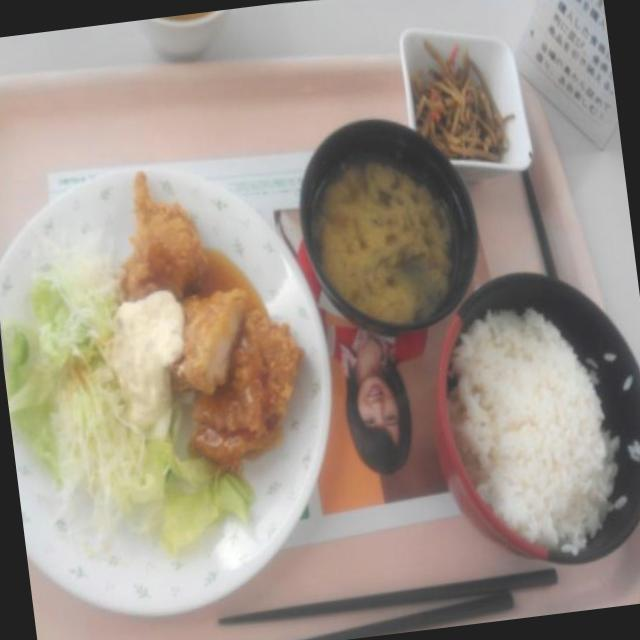Rice: (441, 291, 640, 553)
